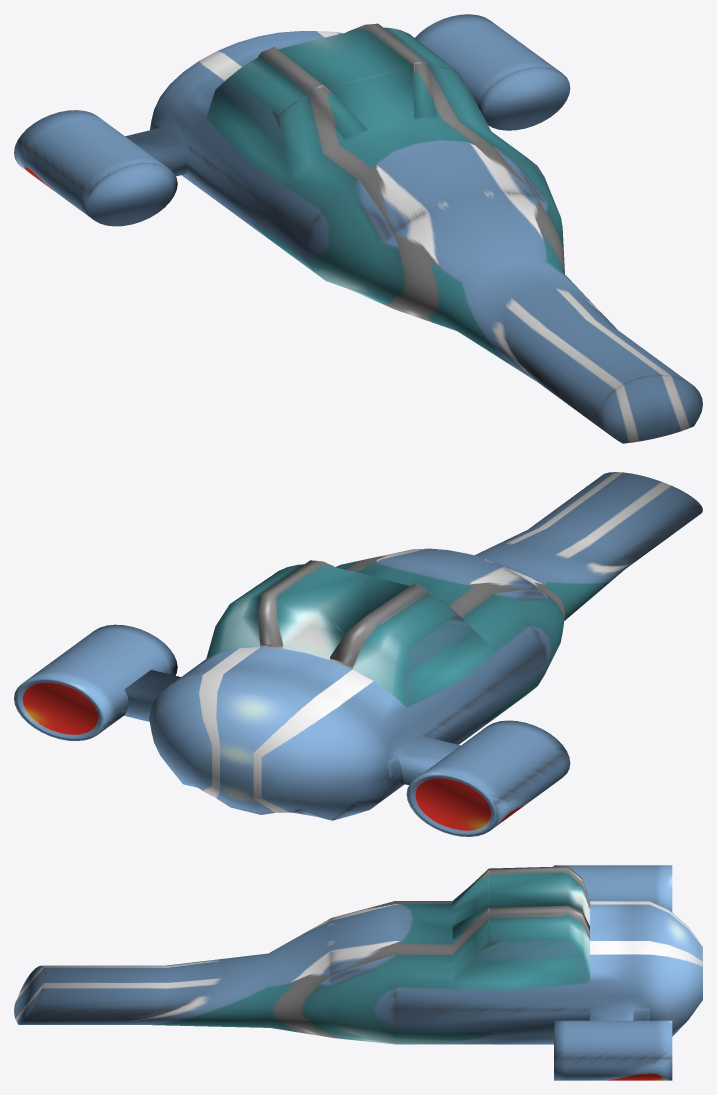
Rendered from quickship.obj.
The picture shows the model from 3 angles, top to bottom: view 1: azimuth 30°, elevation 25°; view 2: azimuth 150°, elevation 25°; view 3: azimuth 270°, elevation 25°; orthographic projection. The views are drawn at different scales.
Visible parts, largest first — view 1: Cylinder; view 2: Cylinder; view 3: Cylinder.
Part boxes in pixels (x1,y1,x2,y2): Cylinder: [14, 14, 702, 443]; Cylinder: [14, 472, 702, 836]; Cylinder: [14, 865, 702, 1080].
Size of the model in its own units: 1.98 by 0.5914 by 3.
